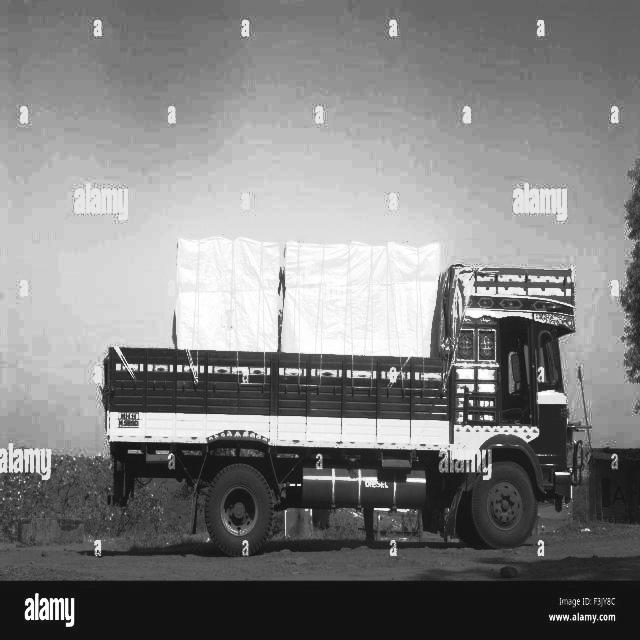HCV: (86, 206, 602, 571)
